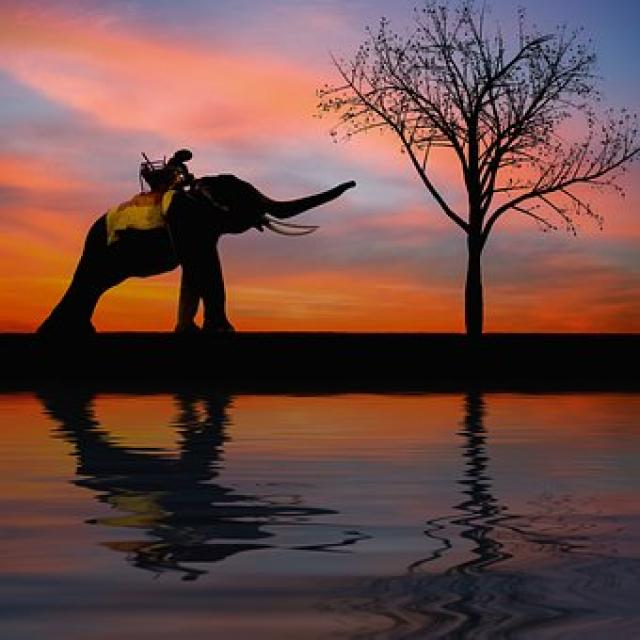Elephant: (27, 136, 378, 360)
